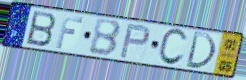B: (88, 18, 123, 58), (25, 9, 58, 48)
C: (156, 28, 189, 67)
D: (184, 30, 217, 71)
F: (54, 14, 85, 50)
P: (118, 23, 151, 60)
